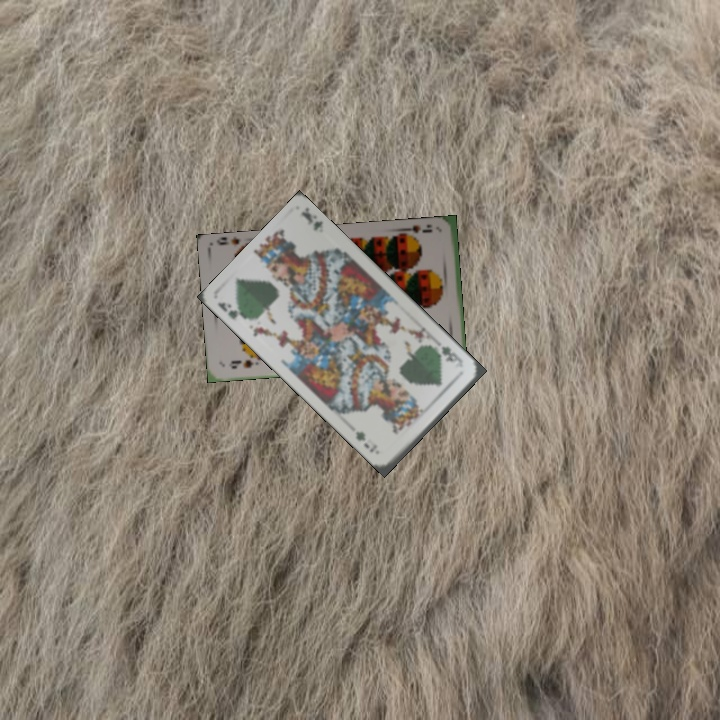GK: (213, 298, 251, 322), (437, 342, 464, 368)
S9: (400, 220, 435, 242), (227, 356, 256, 371)
